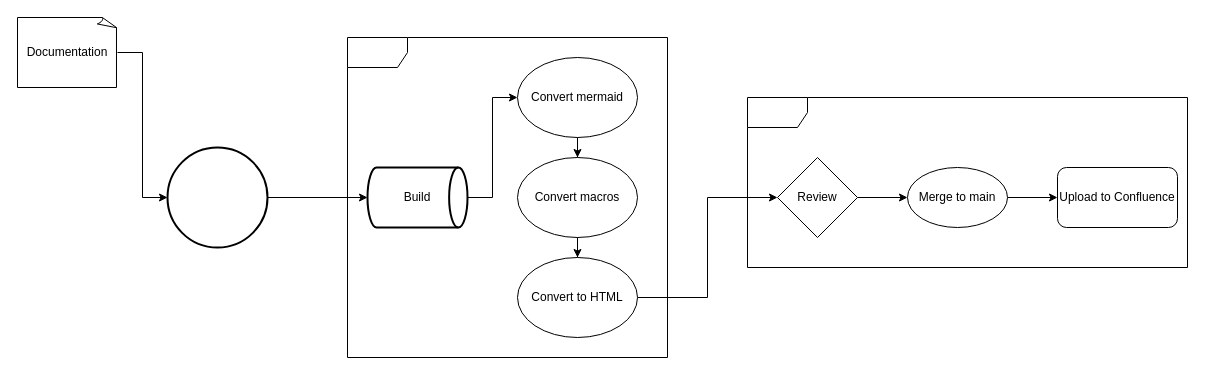
Some shapes in this 1205 by 375 pixel diagram are drawn without their labels. Each missing label, with the box of its shape:
CD Pipeline: (746, 96, 1188, 268)
CI Pipeline: (346, 36, 668, 358)
Commit: (166, 146, 268, 248)
